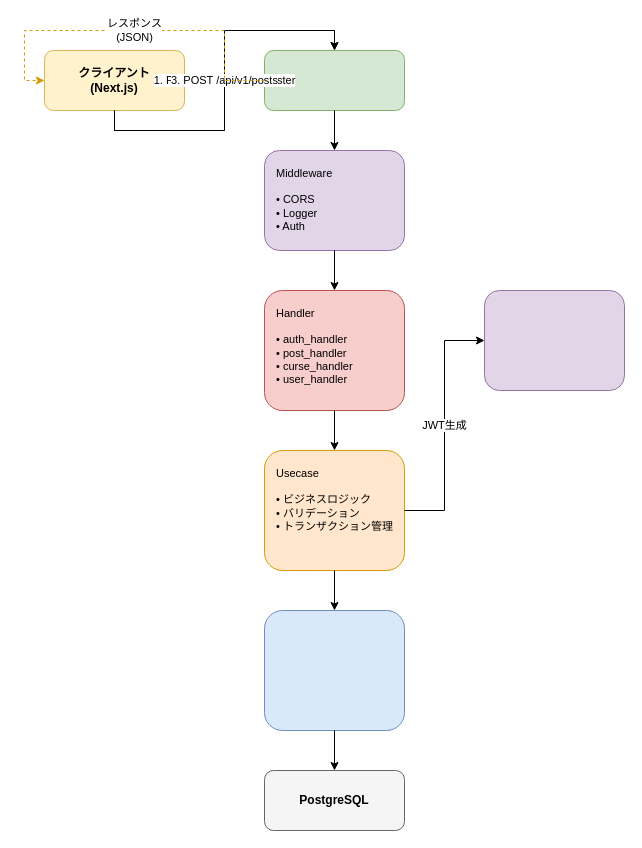
Image size: 642x848. Some labels were removed from this diagram. Each missing label, with the box of its shape:
API Gateway (Gin Router): (264, 50, 404, 110)
JWT Manager • トークン生成 • トークン検証 • リフレッシュ: (484, 290, 624, 390)
Repository • データアクセス • SQL実行 • エンティティ変換: (264, 610, 404, 730)
